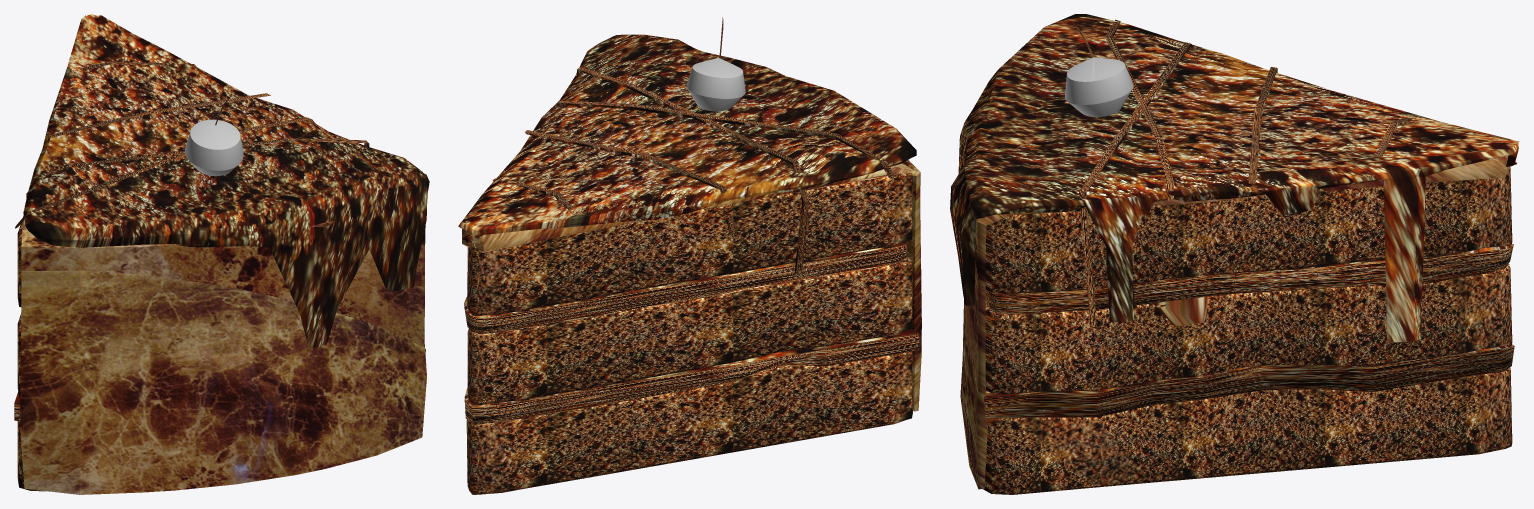
The model's file is Pastel_Rebanada1.obj.
The picture shows the model from 3 angles, left to right: view 1: azimuth 30°, elevation 25°; view 2: azimuth 150°, elevation 25°; view 3: azimuth 270°, elevation 25°; orthographic projection. The views are drawn at different scales.
Parts seen in each view (by area): view 1: polySurface64; view 2: polySurface64; view 3: polySurface64.
Boxes of the visible parts, x1,y1,x2,y2 form: polySurface64: (14, 14, 429, 494); polySurface64: (458, 17, 921, 494); polySurface64: (950, 14, 1519, 494).
Size of the model in its own units: 0.2079 by 0.1917 by 0.2504.
